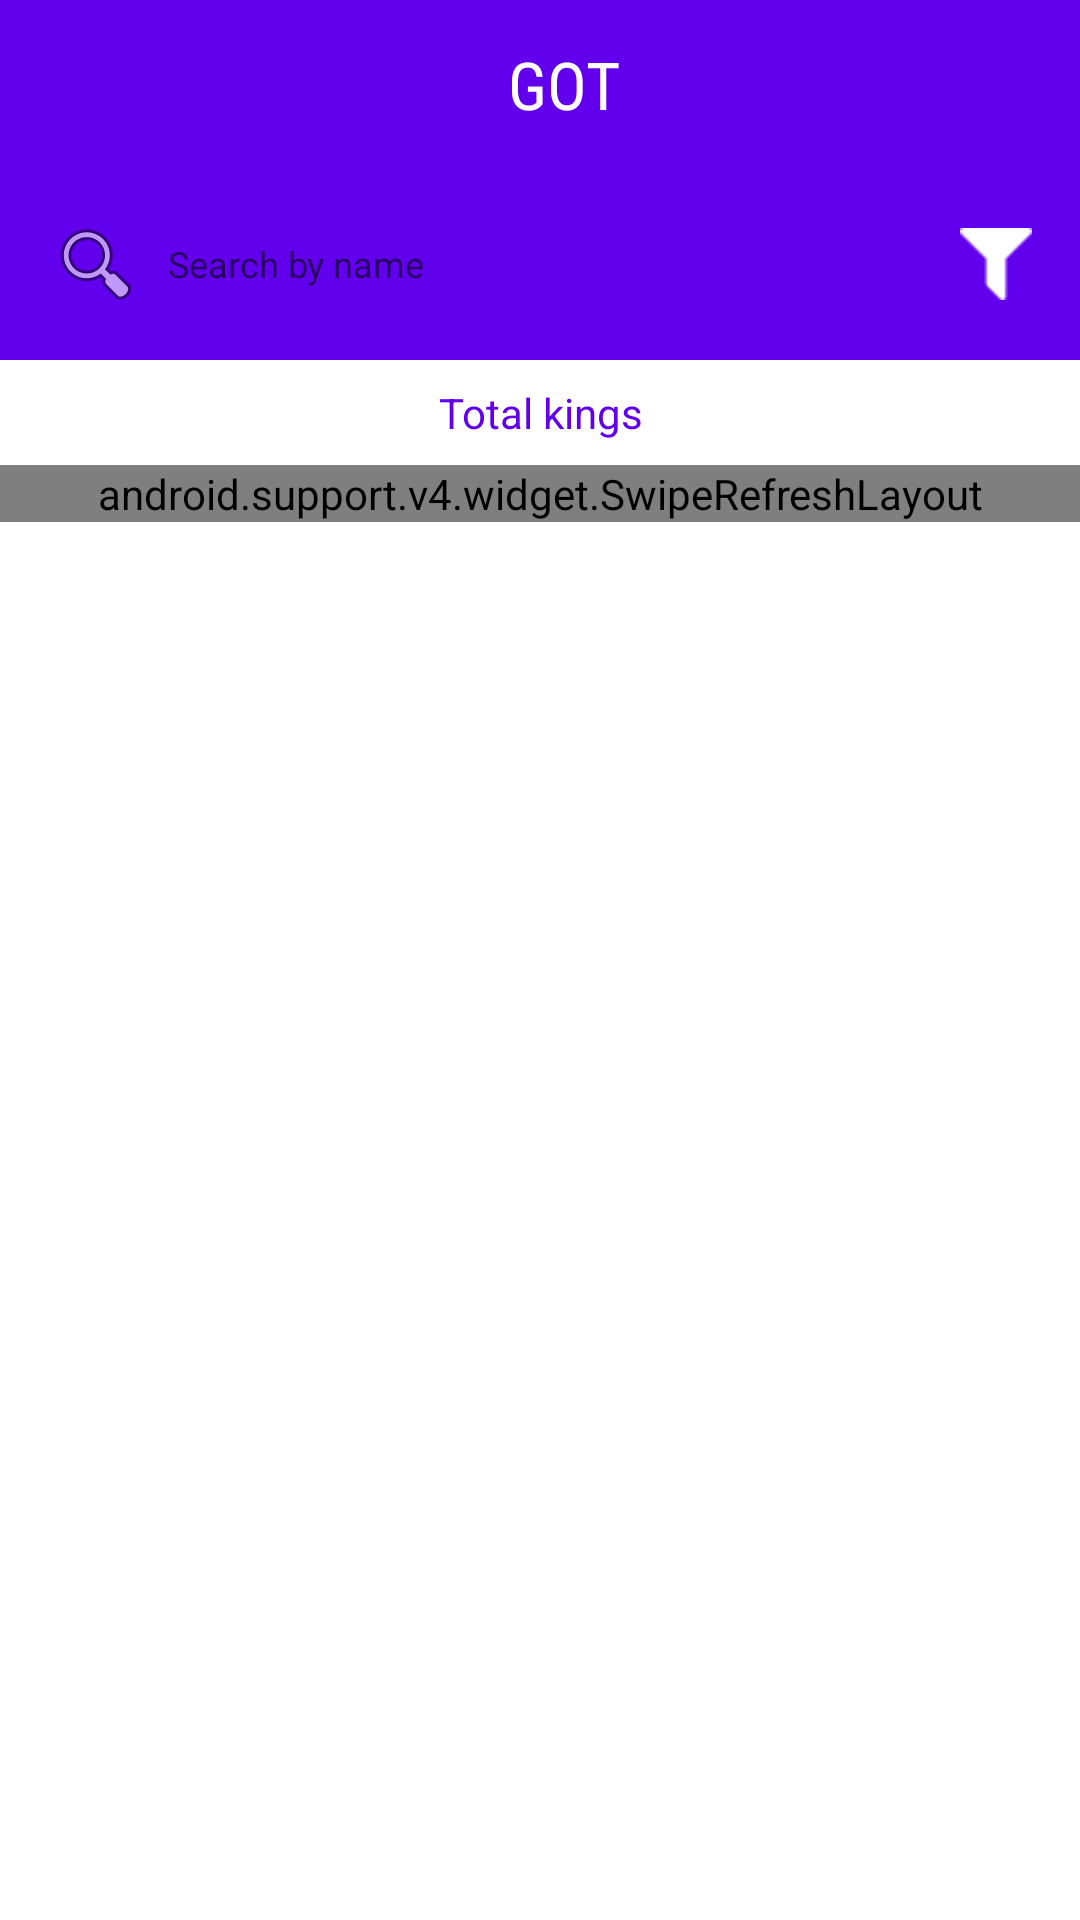

Screen size 1080x1920. Icon name, then its center in pixels as (x,y):
filter: (996,264)
